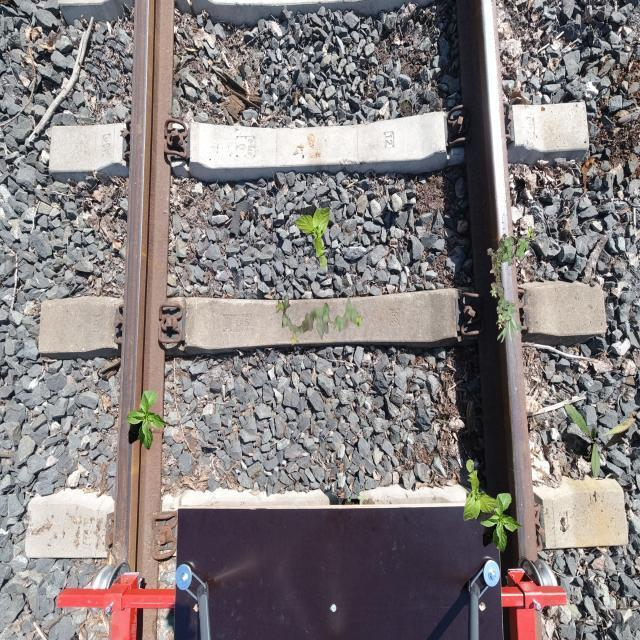Plant: (564, 404, 636, 478), (487, 226, 536, 329), (276, 294, 362, 346), (481, 493, 523, 553), (126, 390, 168, 450), (463, 459, 498, 522), (295, 206, 330, 268), (496, 303, 522, 345)
